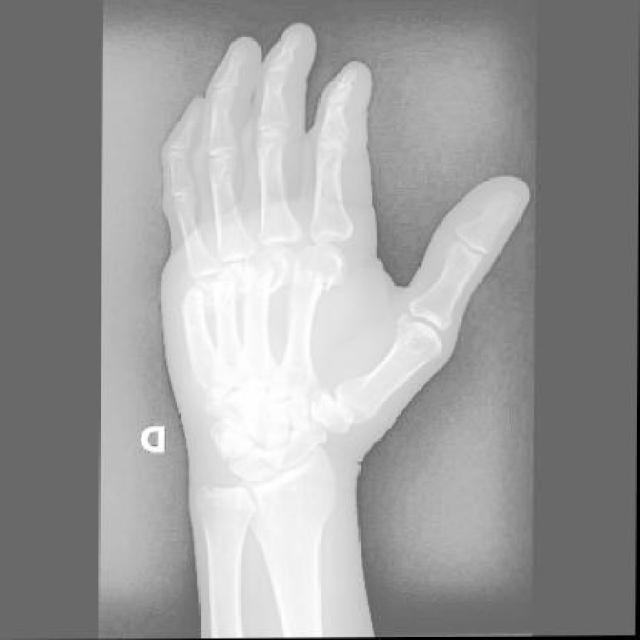Fracture: (240, 249, 288, 299), (297, 245, 341, 296), (179, 279, 218, 327), (211, 265, 252, 309)
